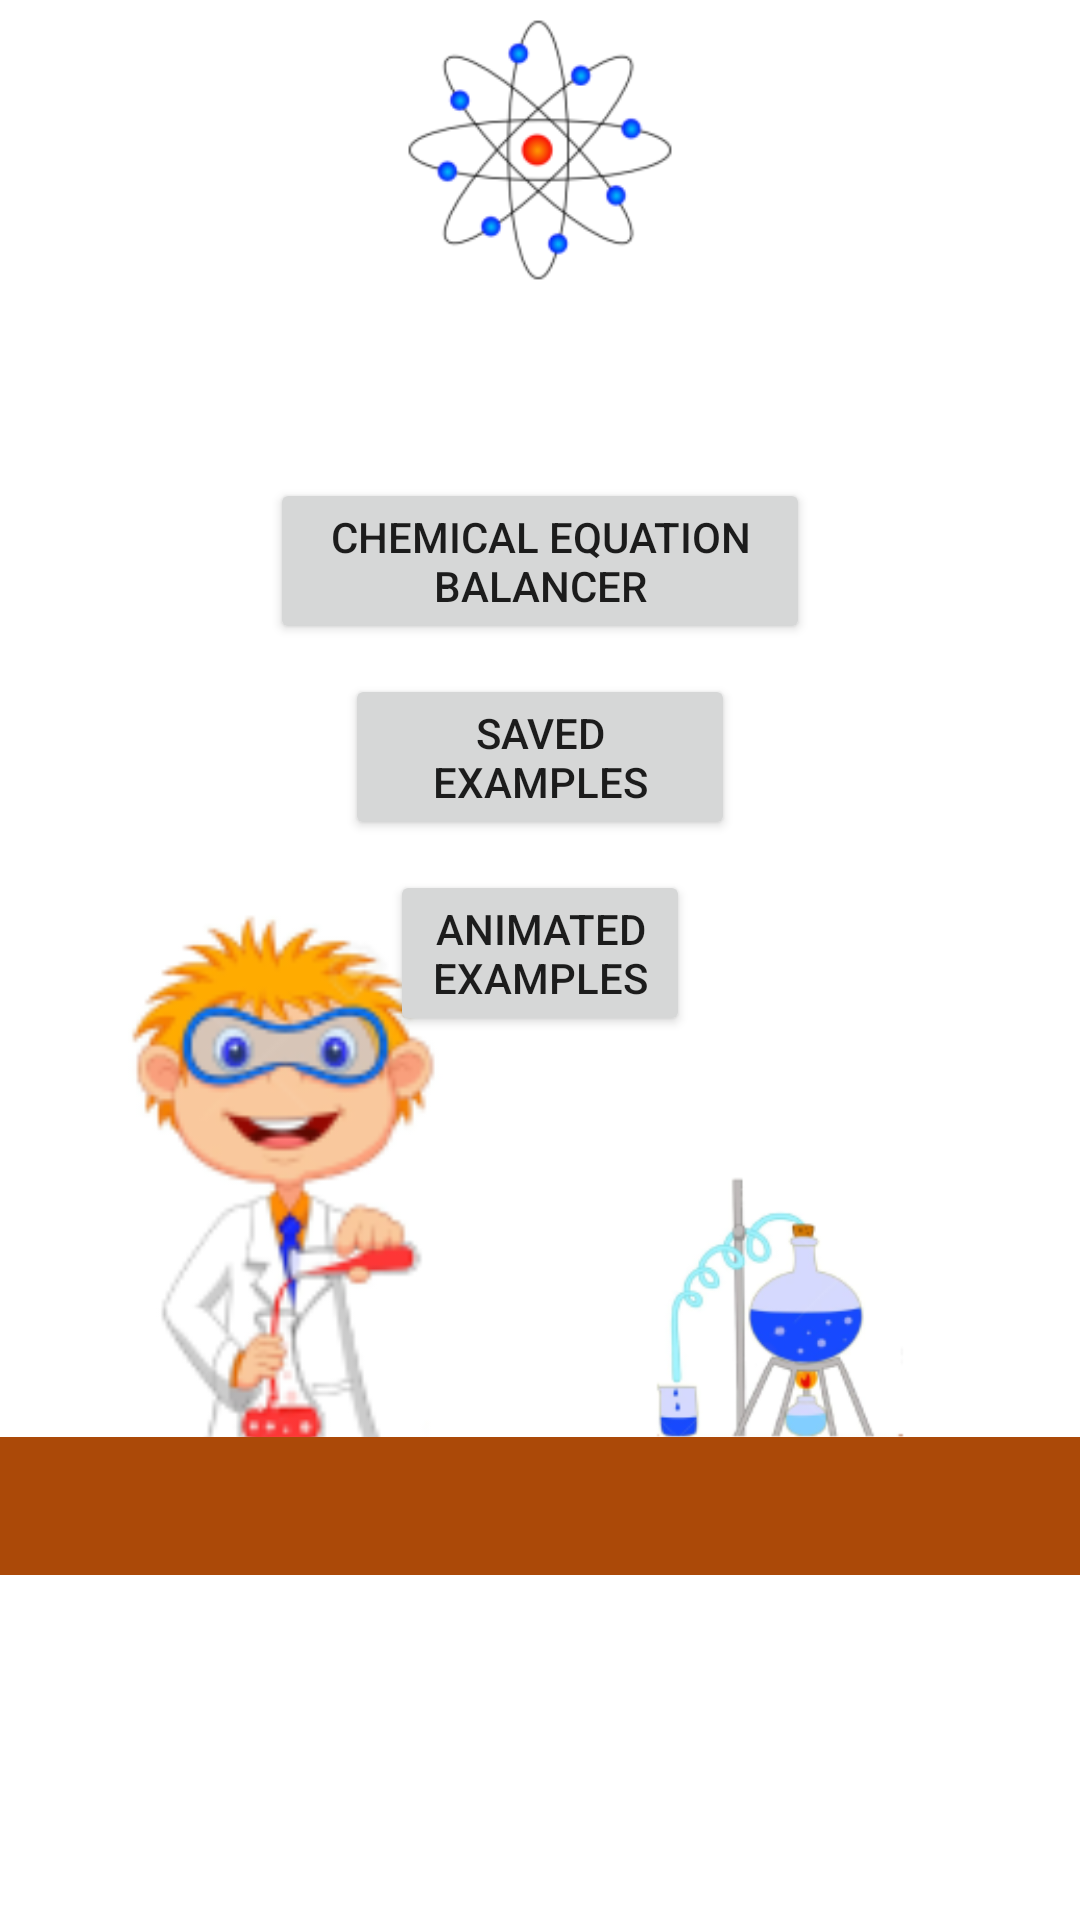

Named icons in this screenshot (1080px x 1920px) and their centers, (x,y):
atom: (540,150)
